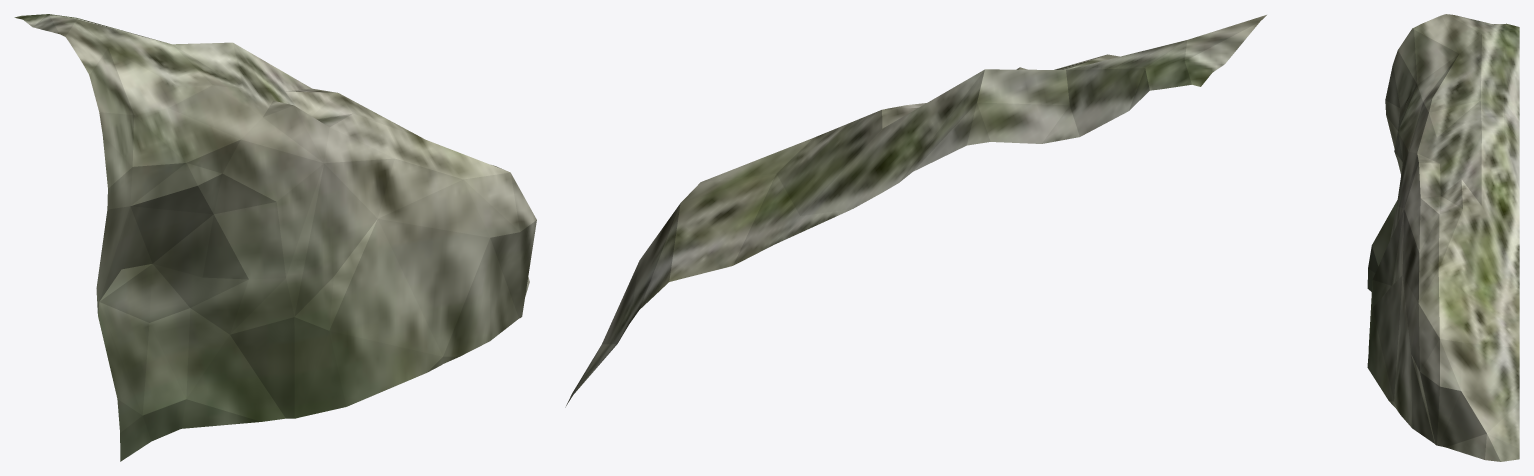
3 renders of one model, left to right at view 1: azimuth 30°, elevation 25°; view 2: azimuth 150°, elevation 25°; view 3: azimuth 270°, elevation 25°, orthographic. The views are drawn at different scales.
Size of the model in its own units: 1.48 by 1.1 by 0.5506.
Materials: 1 (1 with a texture image).
